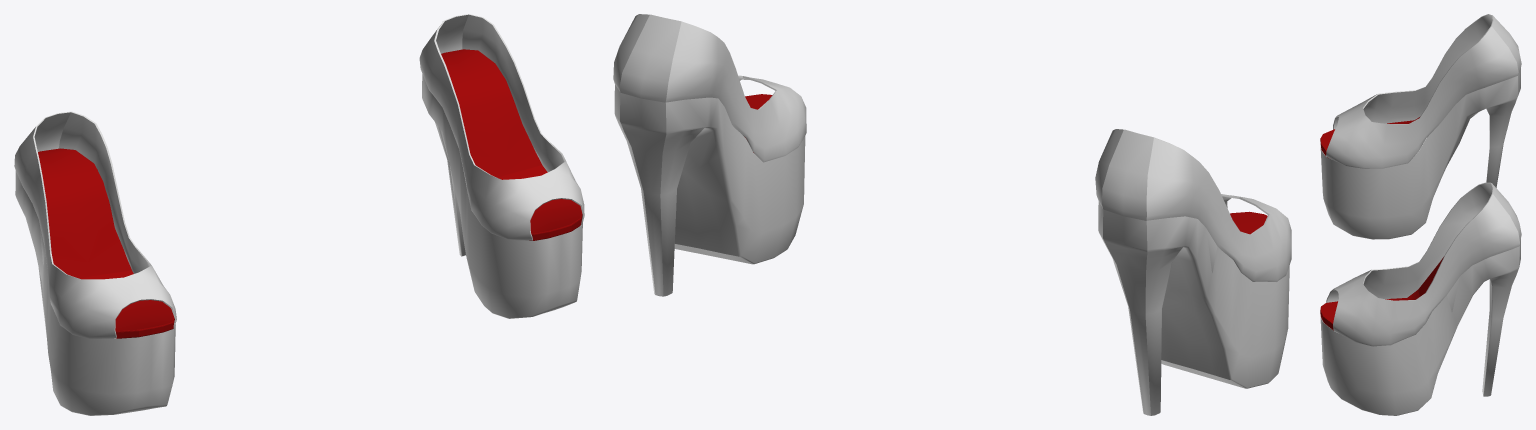
Rendered from BunnyHighHeels.fbx.
3 views of the same model, side by side, from view 1: azimuth 30°, elevation 25°; view 2: azimuth 150°, elevation 25°; view 3: azimuth 270°, elevation 25° (orthographic). The views are drawn at different scales.
Parts seen in each view (by area): view 1: BunnyHighHeels_Right, BunnyHighHeels_Left; view 2: BunnyHighHeels_Right, BunnyHighHeels_Left; view 3: BunnyHighHeels_Left, BunnyHighHeels_Right.
Boxes of the visible parts, bbox=[...] form: BunnyHighHeels_Right: bbox=[14, 111, 176, 415]; BunnyHighHeels_Left: bbox=[419, 14, 584, 318]; BunnyHighHeels_Right: bbox=[1095, 129, 1291, 415]; BunnyHighHeels_Left: bbox=[613, 14, 806, 296]; BunnyHighHeels_Left: bbox=[1320, 182, 1521, 415]; BunnyHighHeels_Right: bbox=[1320, 14, 1521, 239].
Bounding box in the file's own units: 4560 × 2026 × 1796.
